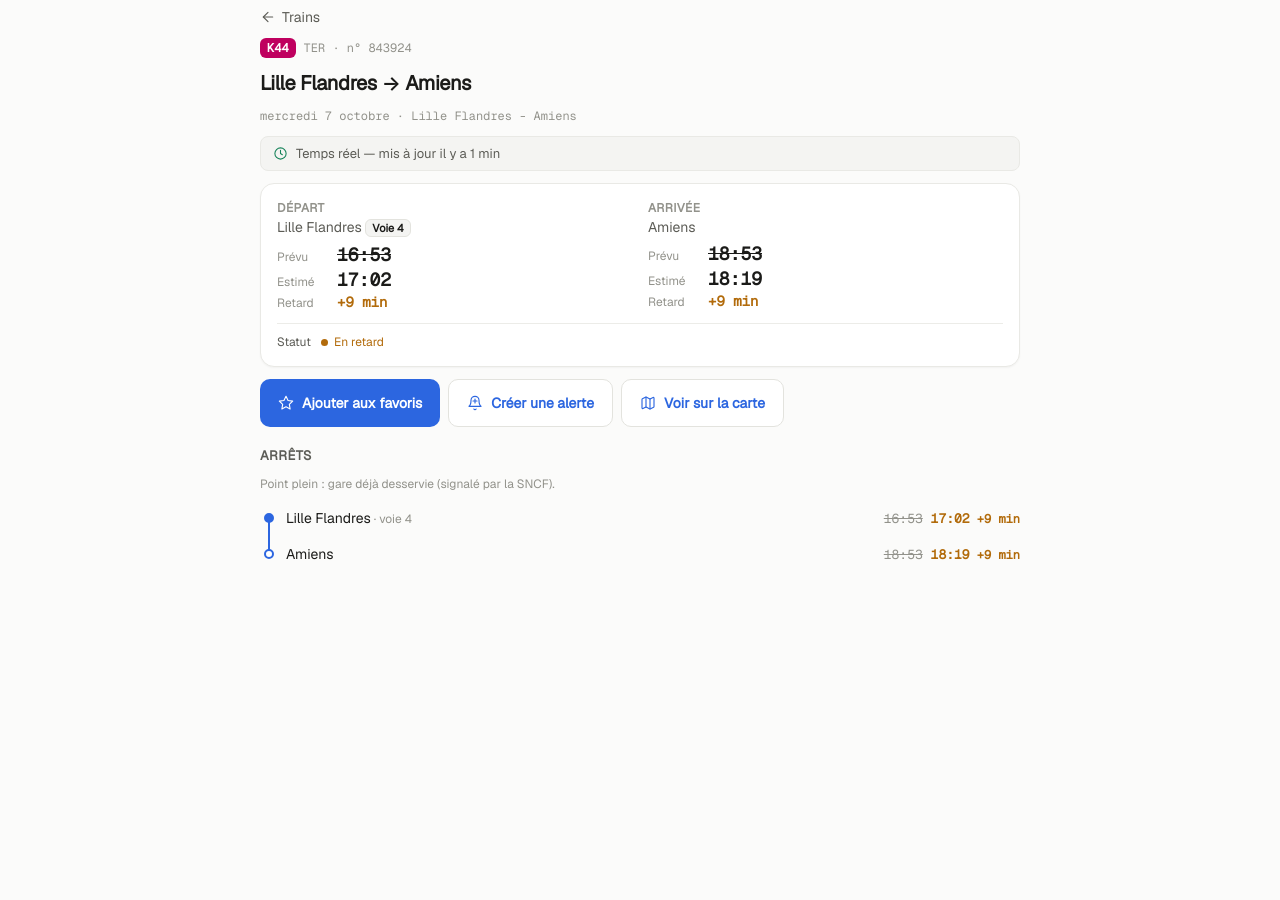
détail d'un train › prévu / estimé / retard, puis favori et alerte
The width and height of the screenshot is (1280, 900).
expect the text "Statut" is shown: met, box [277,334,311,350]
expect the text "Prévu" is shown 2 times: met, box [277,249,308,265]; [648,248,679,264]
Click the button "Ajouter aux favoris". click: (350, 403)
box: [260,379,440,427]
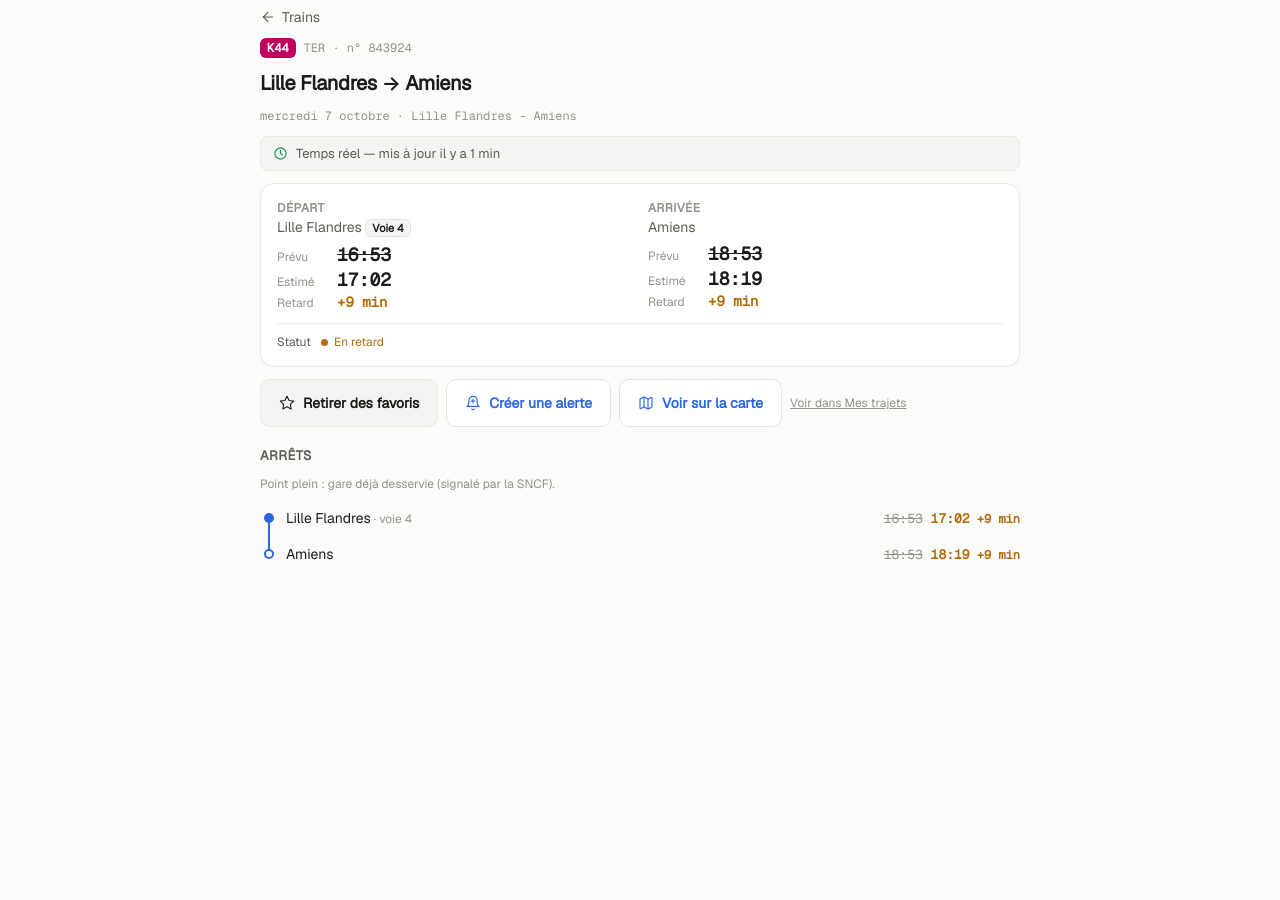
expect the button "Retirer des favoris" is shown: met, box [260,379,438,427]
Click the button "Créer une alerte". click: (529, 403)
box: [446,379,611,427]
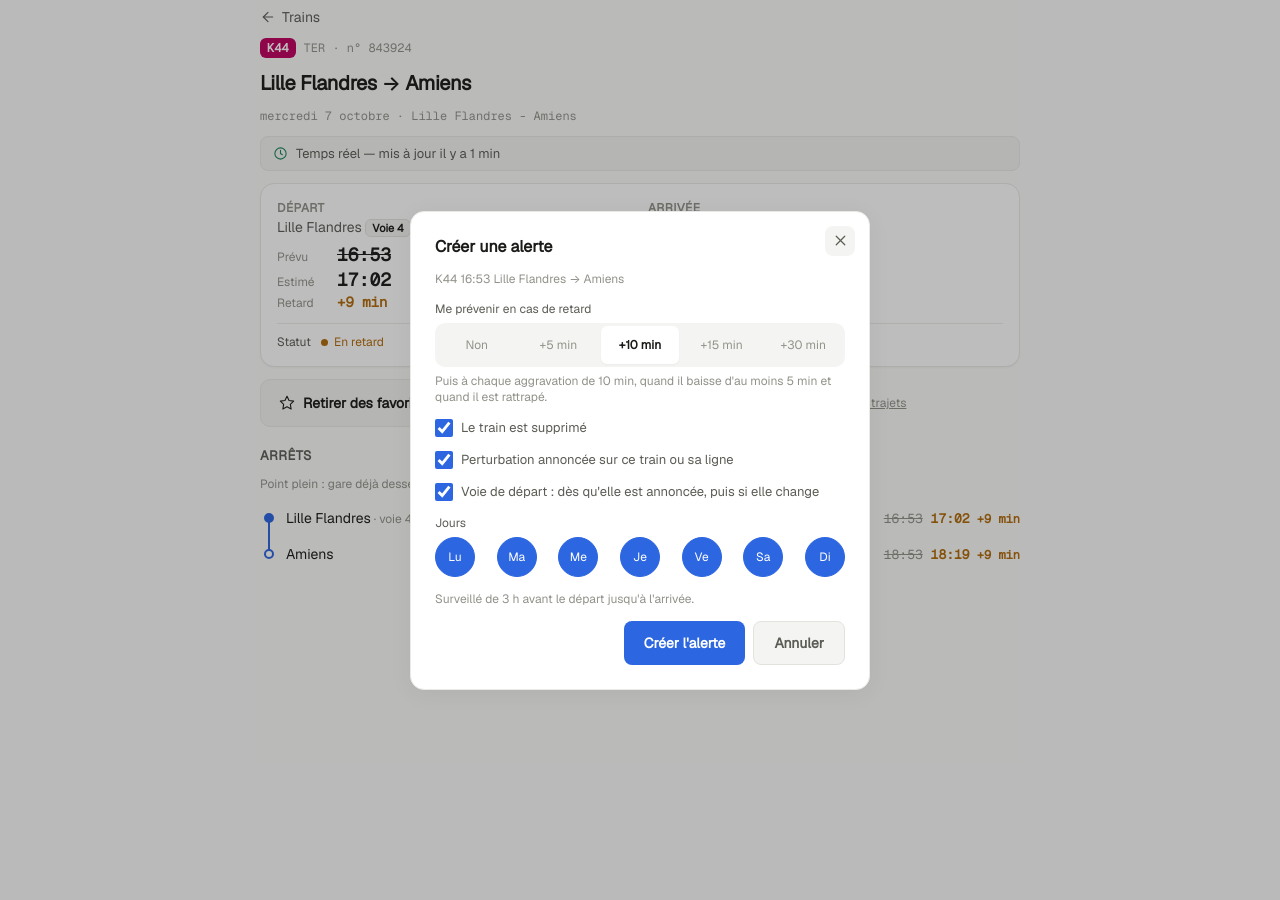
Click the button "+15 min". click: (722, 344)
box: [683,326,760,364]
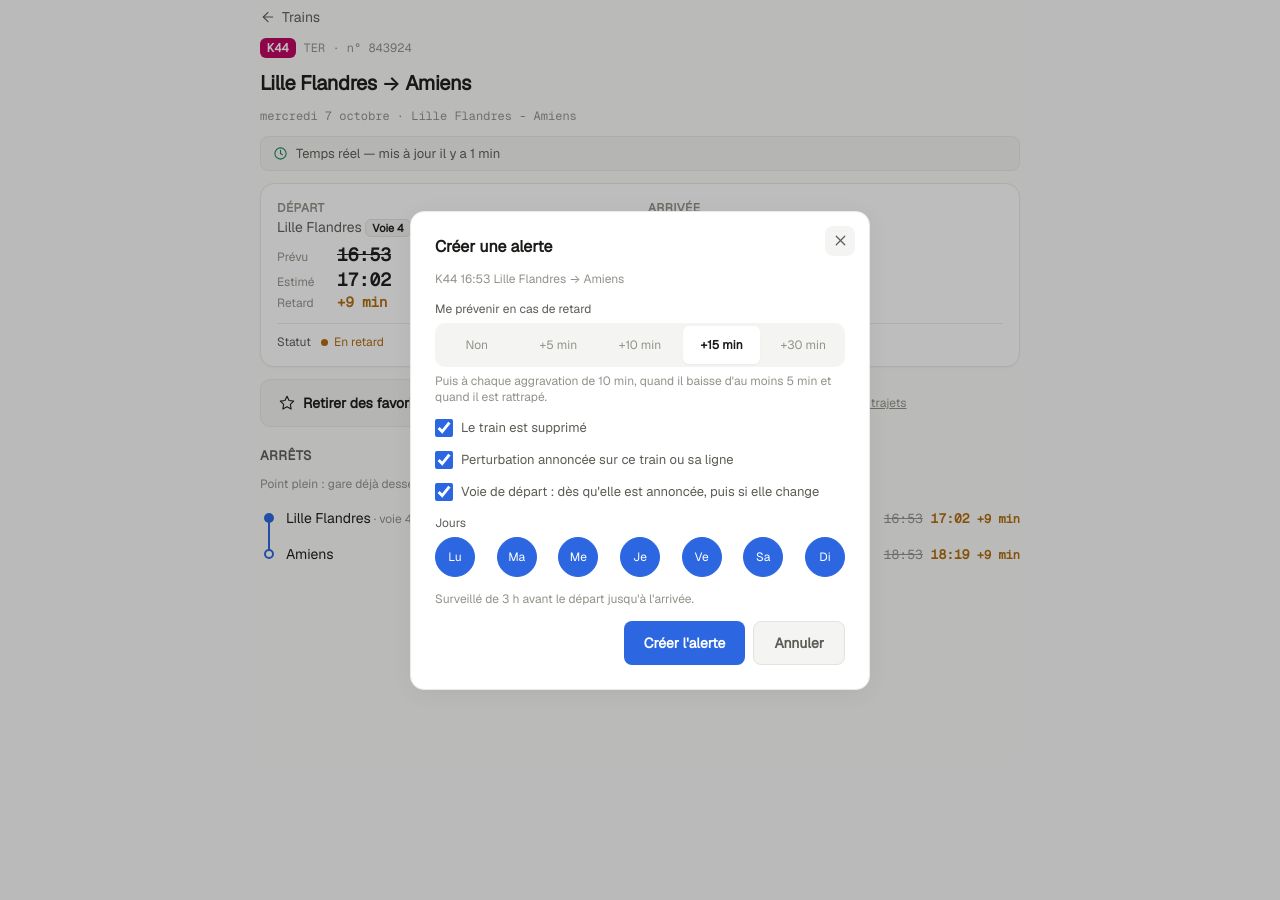
expect the checkbox labelled "Voie de départ" is checked: met
Click the checkbox labelled "Voie de départ". click: (444, 492)
box: [435,482,453,500]
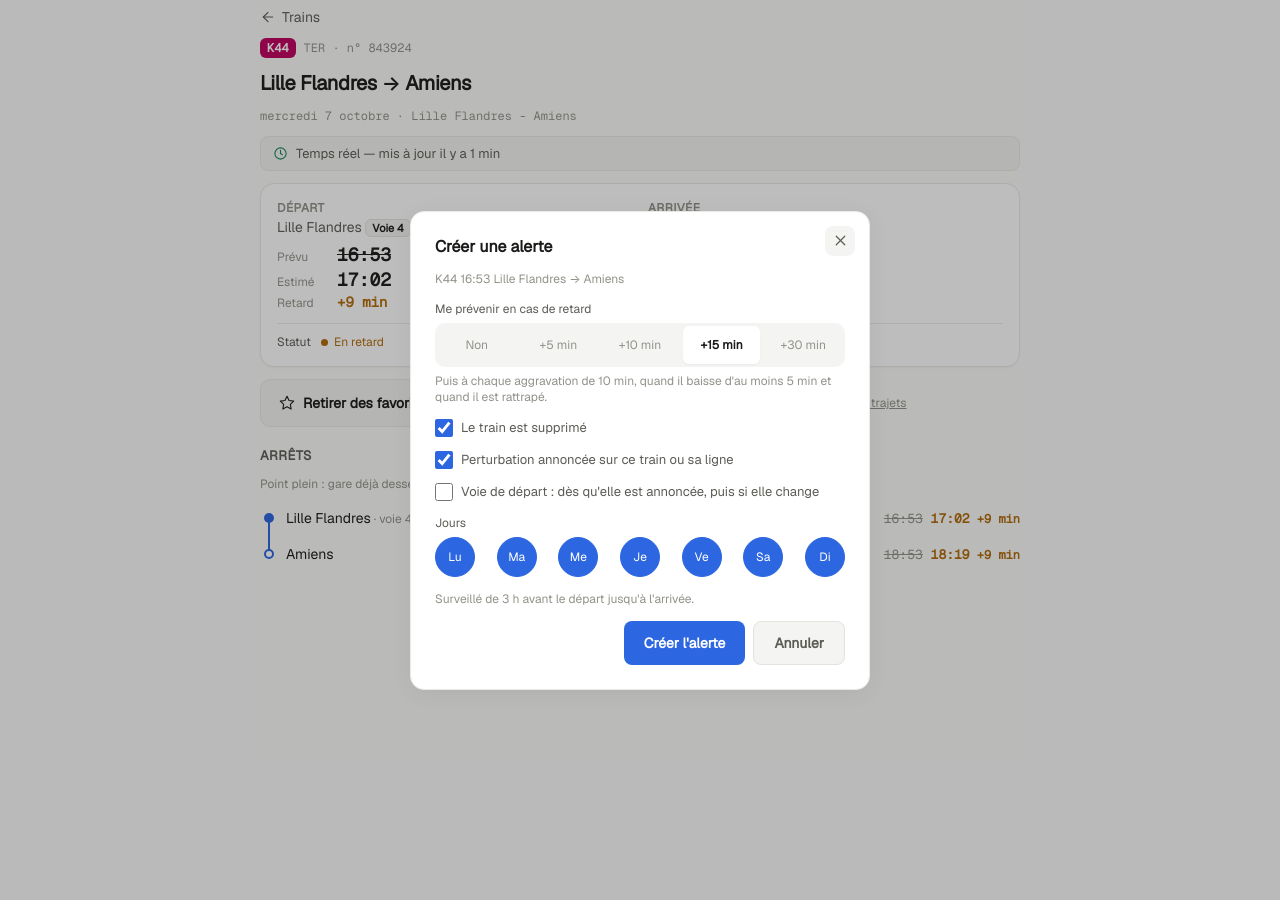
Click the button "Créer l'alerte". click: (685, 642)
box: [624,620,745,664]
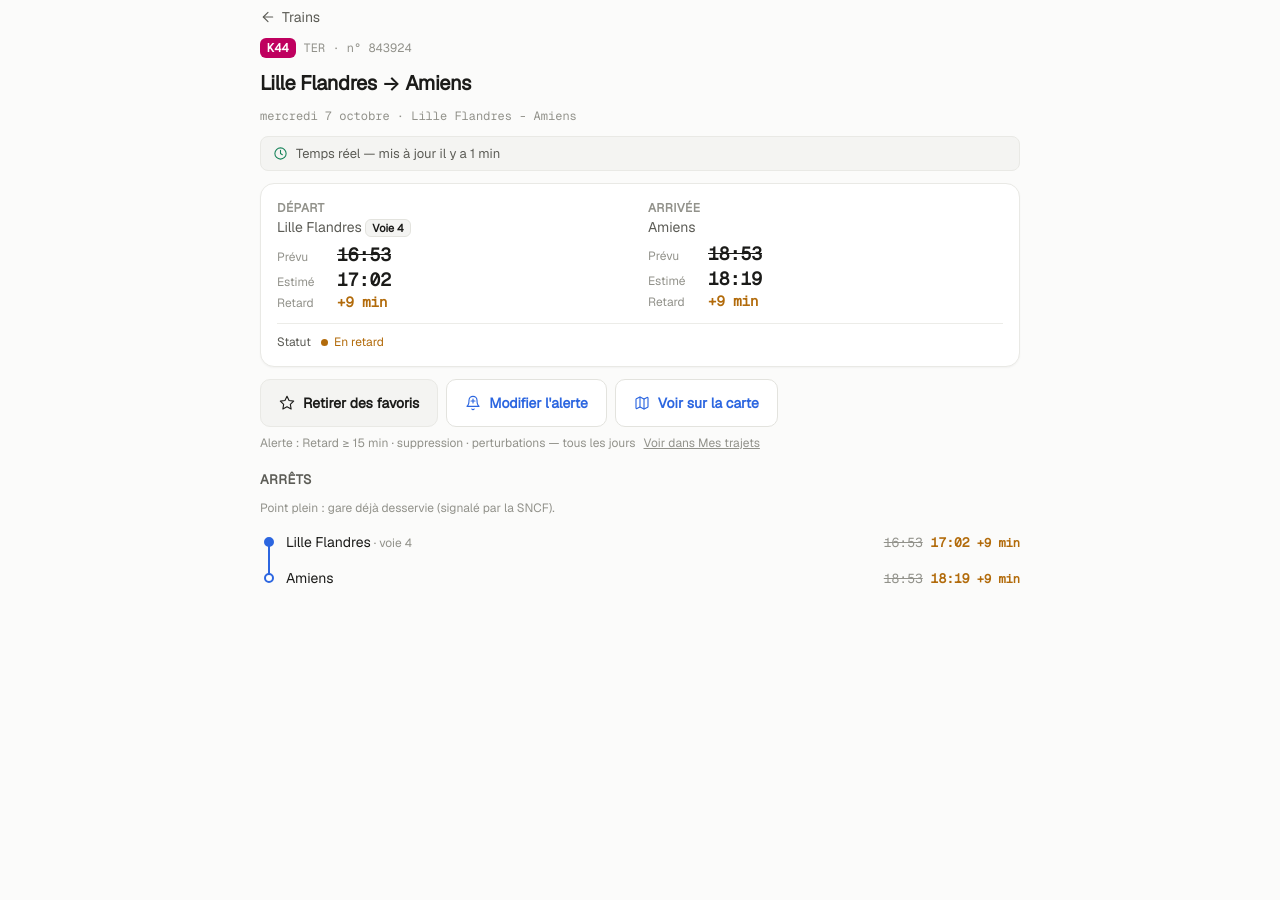
expect the button "Modifier l'alerte" is shown: met, box [446,379,607,427]
